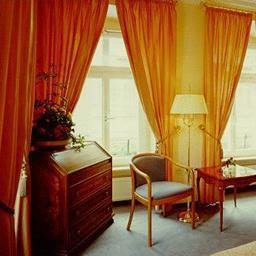Armario: (50, 152, 116, 250)
Ventana: (65, 17, 151, 158), (204, 6, 254, 158)
